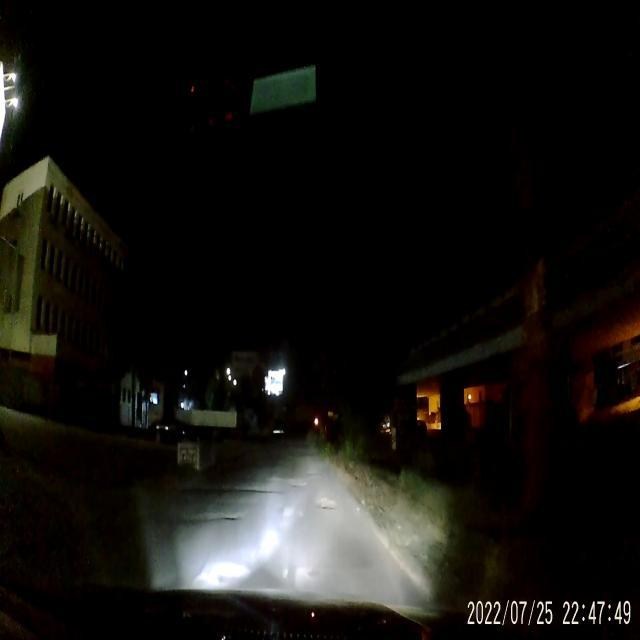Pothole: (188, 506, 244, 524), (226, 482, 270, 498), (315, 492, 336, 517), (286, 479, 312, 491), (304, 468, 322, 480)
